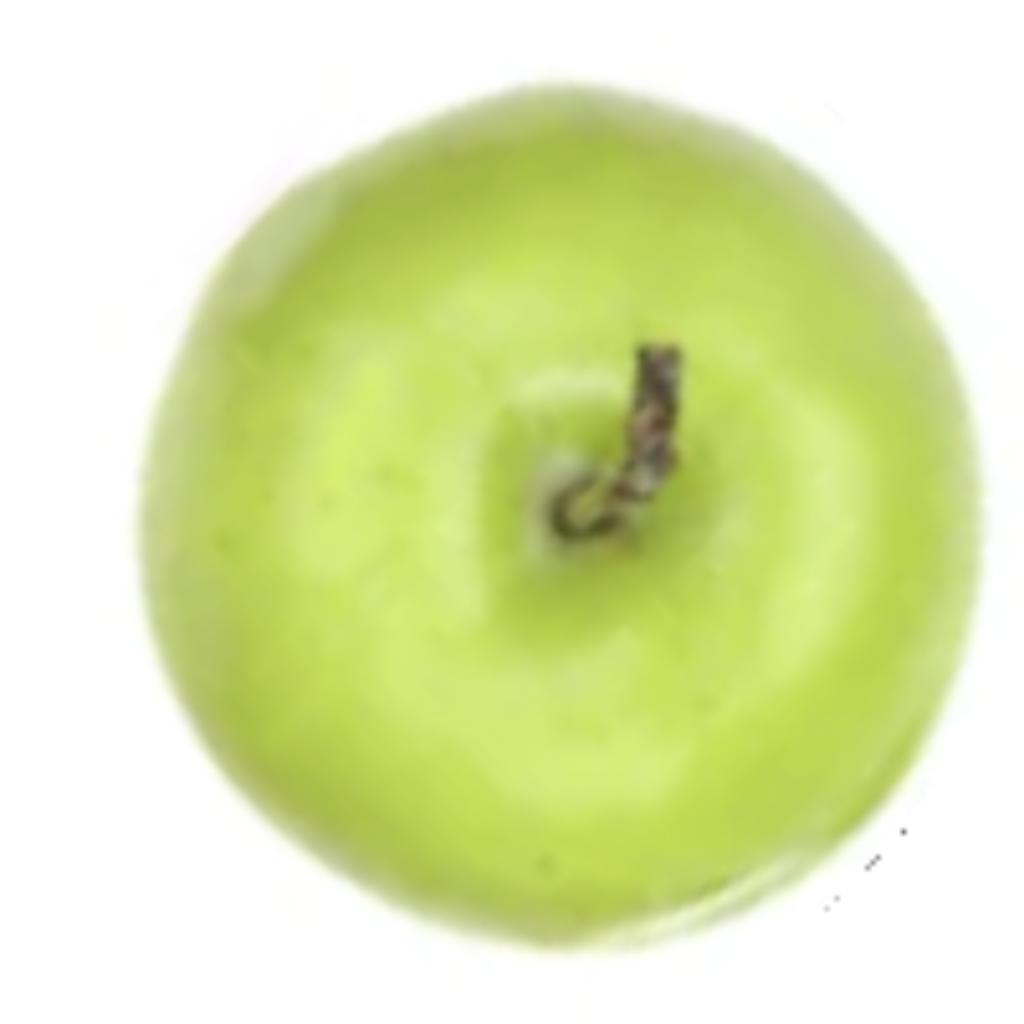apple: (123, 61, 998, 963)
